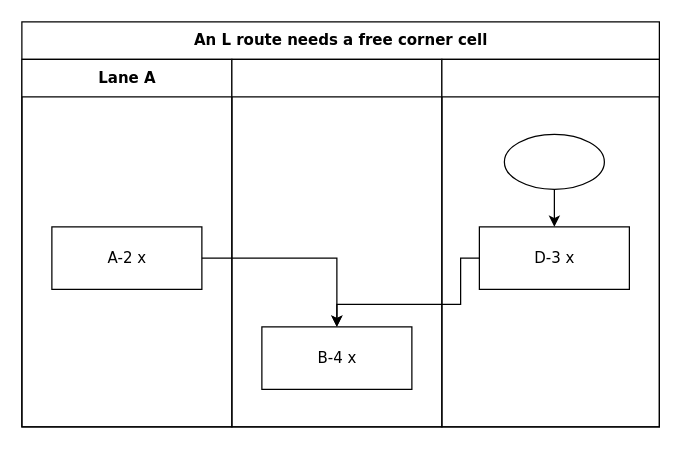
Image size: 681x449. Some labels were removed from this diagram. Each missing label, with the box of its shape:
D-1 x: (503, 133, 604, 189)
Lane B: (231, 58, 442, 427)
Lane D: (441, 58, 659, 427)
